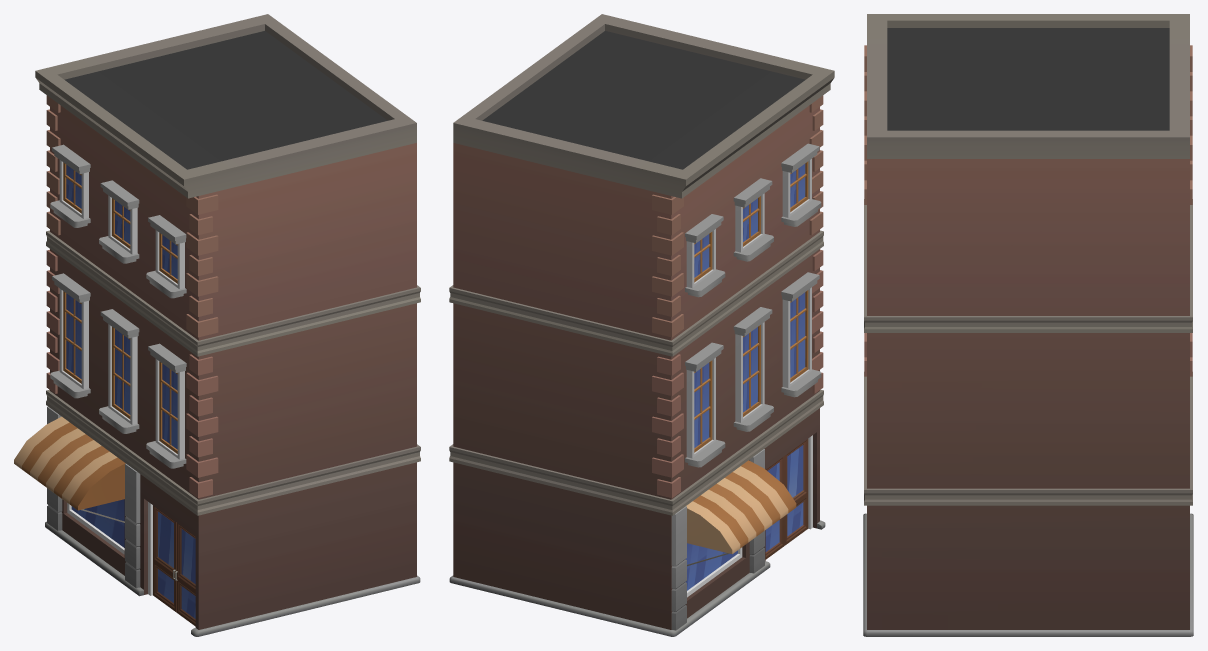
Rendered from Building_8_1_D.fbx.
3 renders of one model, left to right at view 1: azimuth 30°, elevation 25°; view 2: azimuth 150°, elevation 25°; view 3: azimuth 270°, elevation 25°, orthographic. The views are drawn at different scales.
Parts seen in each view (by area): view 1: Building 8_1_D; view 2: Building 8_1_D; view 3: Building 8_1_D.
Boxes of the visible parts, bbox=[...] form: Building 8_1_D: bbox=[14, 14, 420, 636]; Building 8_1_D: bbox=[449, 14, 834, 636]; Building 8_1_D: bbox=[863, 14, 1193, 636].
Size of the model in its own units: 681 by 1108 by 667.
